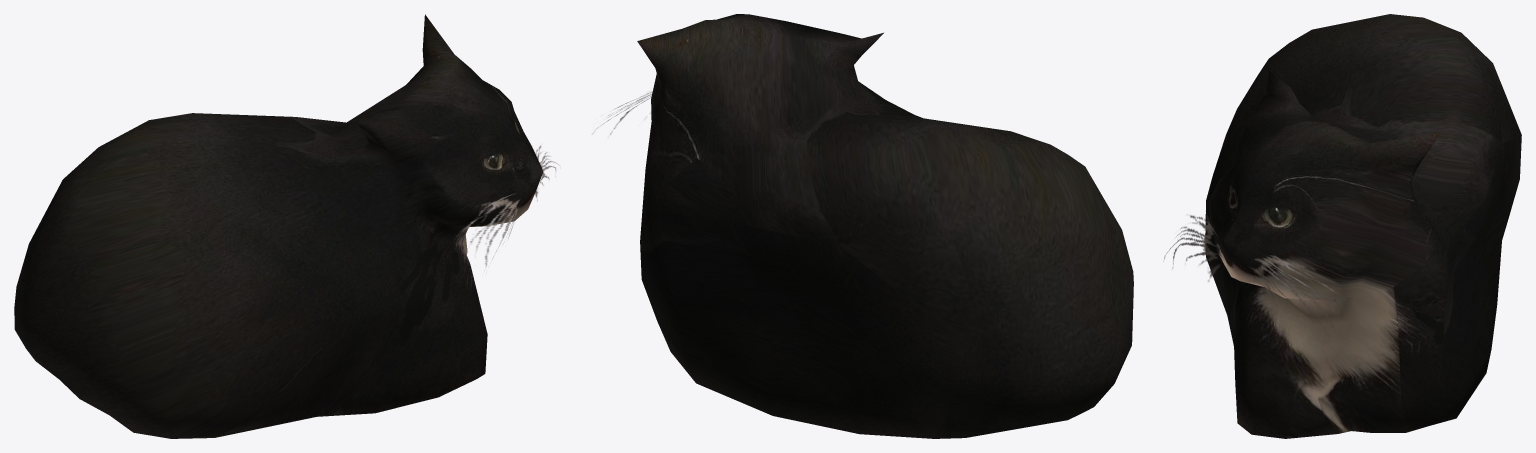
File: maxwell_the_cat.glb
3 renders of one model, left to right at view 1: azimuth 30°, elevation 25°; view 2: azimuth 150°, elevation 25°; view 3: azimuth 270°, elevation 25°, orthographic. The views are drawn at different scales.
Parts seen in each view (by area): view 1: dingus_dingus_0_4, dingus_whiskers_0_5; view 2: dingus_dingus_0_4; view 3: dingus_dingus_0_4, dingus_whiskers_0_5.
Boxes of the visible parts, x1,y1,x2,y2 form: dingus_dingus_0_4: [14, 14, 542, 438]; dingus_whiskers_0_5: [457, 145, 559, 266]; dingus_dingus_0_4: [637, 14, 1133, 438]; dingus_dingus_0_4: [1205, 14, 1521, 438]; dingus_whiskers_0_5: [1164, 211, 1349, 332].
Size of the model in its own units: 33.23 by 19.21 by 18.75.
Materials: 2 (2 with a texture image).
